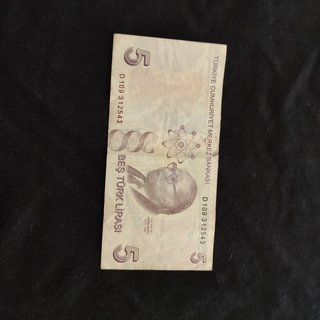5TLBack: (99, 31, 229, 271)
